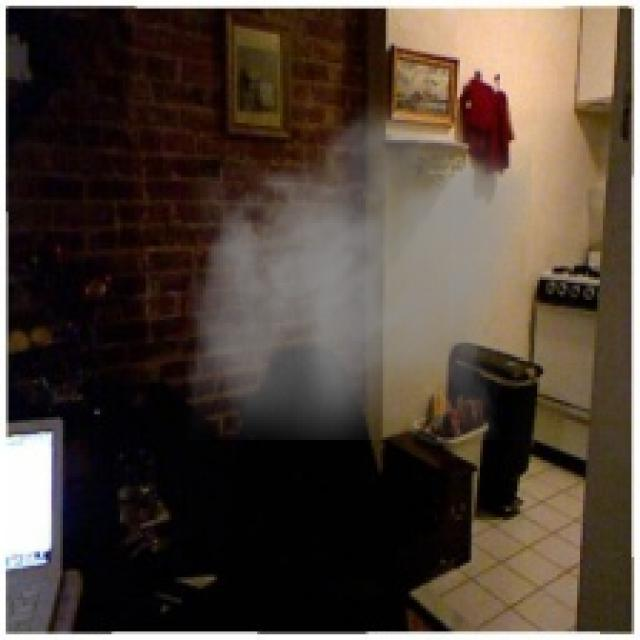smoke: (186, 91, 531, 440)
